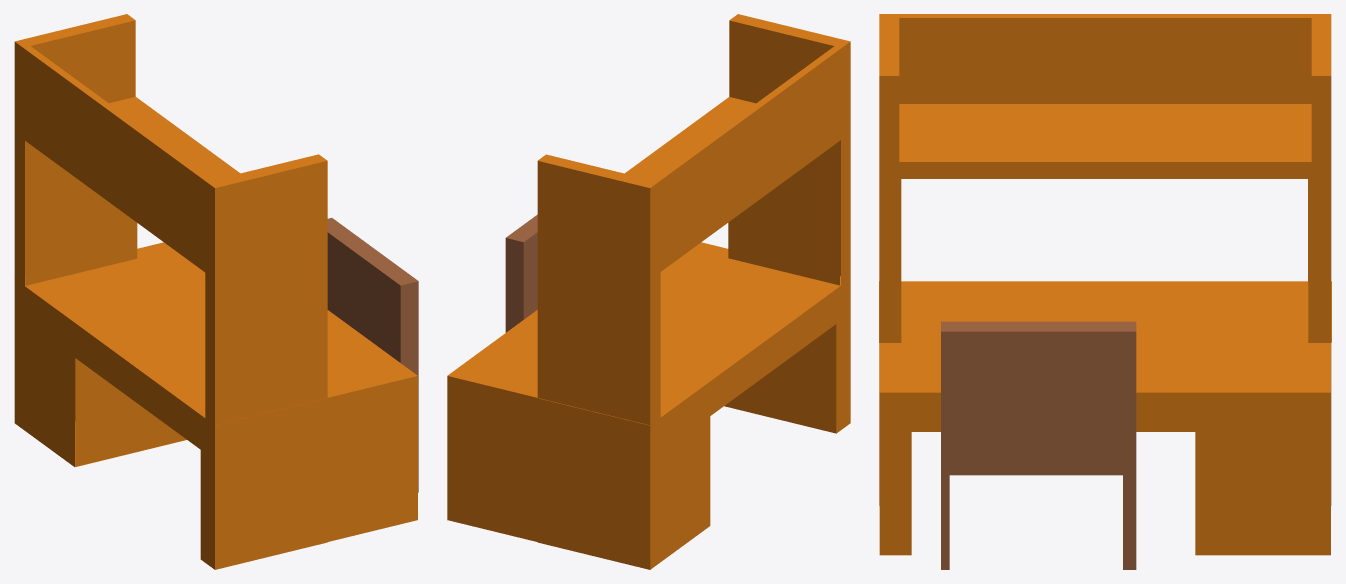
File: DeskChair.glb
The picture shows the model from 3 angles, left to right: view 1: azimuth 30°, elevation 25°; view 2: azimuth 150°, elevation 25°; view 3: azimuth 270°, elevation 25°; orthographic projection. The views are drawn at different scales.
Visible parts, largest first — view 1: Table, Chair; view 2: Table, Chair; view 3: Table, Chair.
Boxes of the visible parts, <box> form: Table: <box>14,14,417,569</box>; Chair: <box>327,218,418,492</box>; Table: <box>447,14,850,569</box>; Chair: <box>505,214,537,332</box>; Table: <box>879,14,1331,555</box>; Chair: <box>941,321,1136,569</box>.
Bounding box in the file's own units: 1.48 × 2.34 × 2.23.
